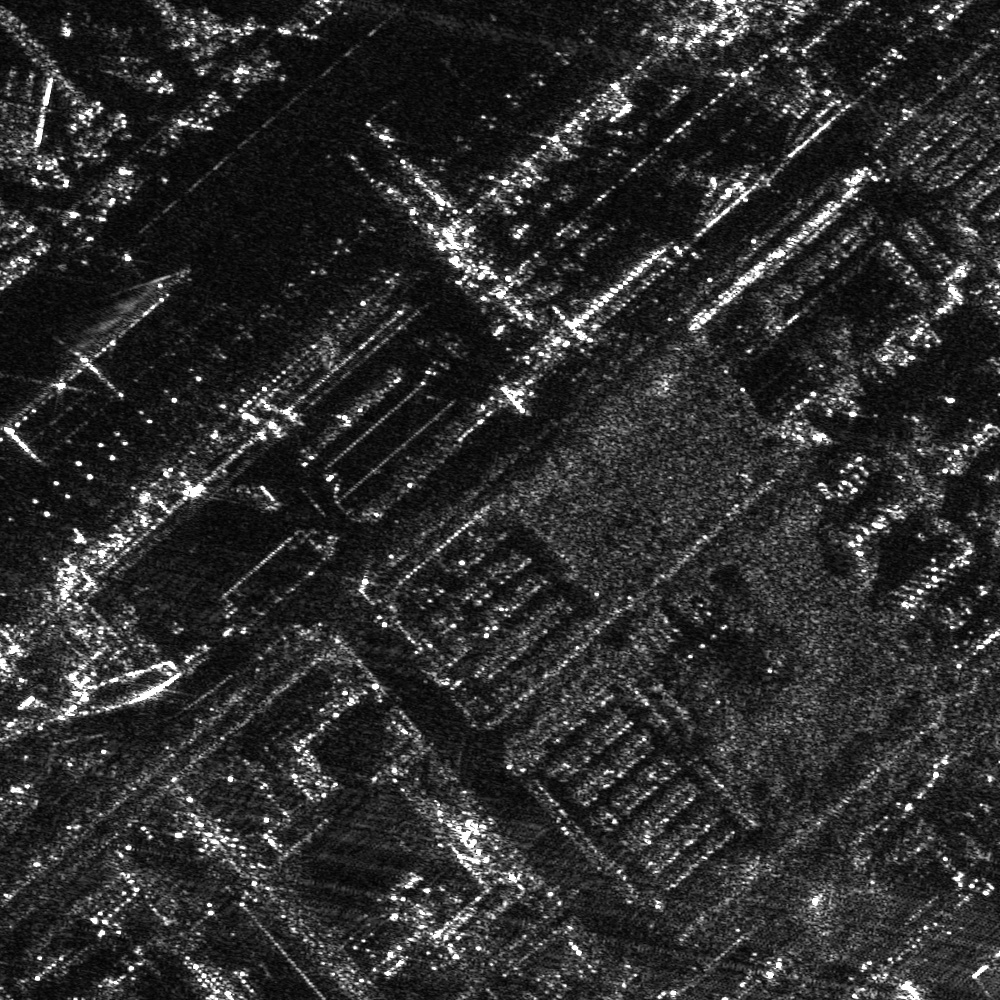Boeing787: (63, 6, 159, 83), (1, 62, 58, 173)
